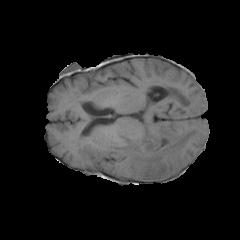glioma: (110, 124, 197, 181)
